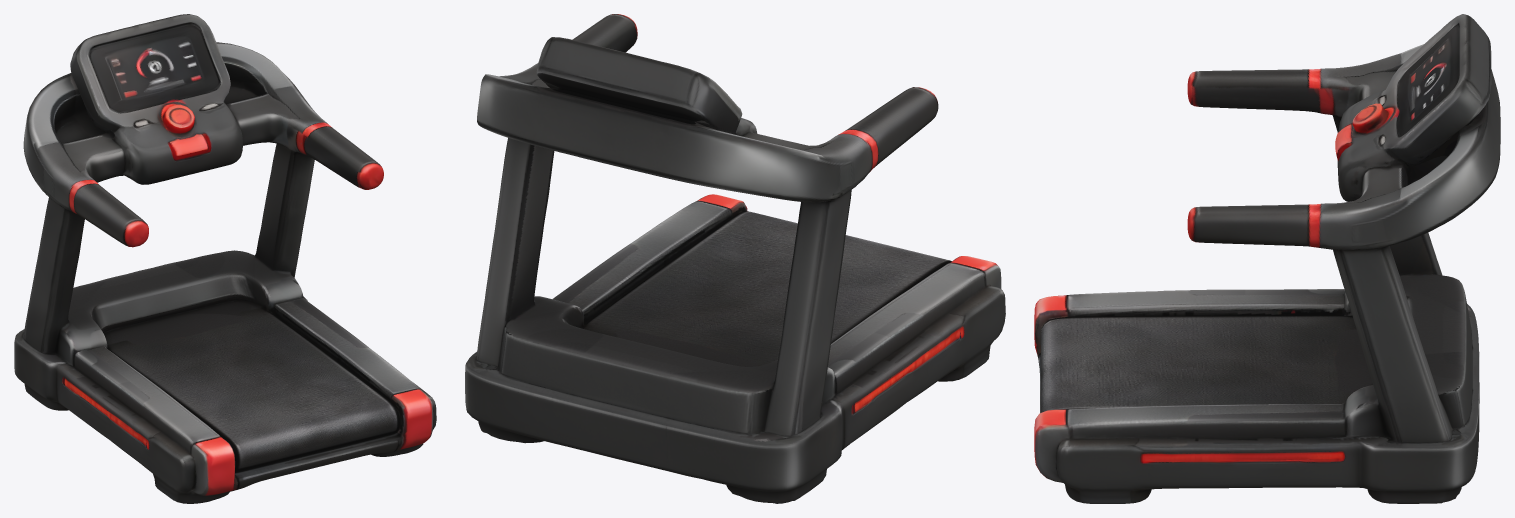
Rendered from treadmill_shaded.glb.
The picture shows the model from 3 angles, left to right: view 1: azimuth 30°, elevation 25°; view 2: azimuth 150°, elevation 25°; view 3: azimuth 270°, elevation 25°; orthographic projection. The views are drawn at different scales.
Visible parts, largest first — view 1: model; view 2: model; view 3: model.
Part boxes in pixels (x1,y1,x2,y2): model: [14, 14, 436, 503]; model: [465, 14, 1005, 503]; model: [1034, 14, 1500, 503].
Size of the model in its own units: 1.47 by 1.77 by 1.9.
Materials: 1 (1 with a texture image).
